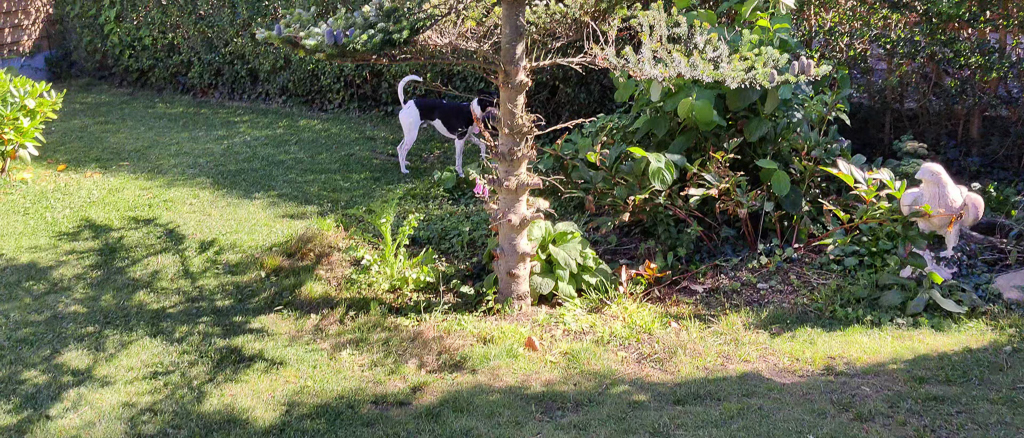Dog: (384, 72, 510, 183)
Eagle: (891, 158, 993, 298)
